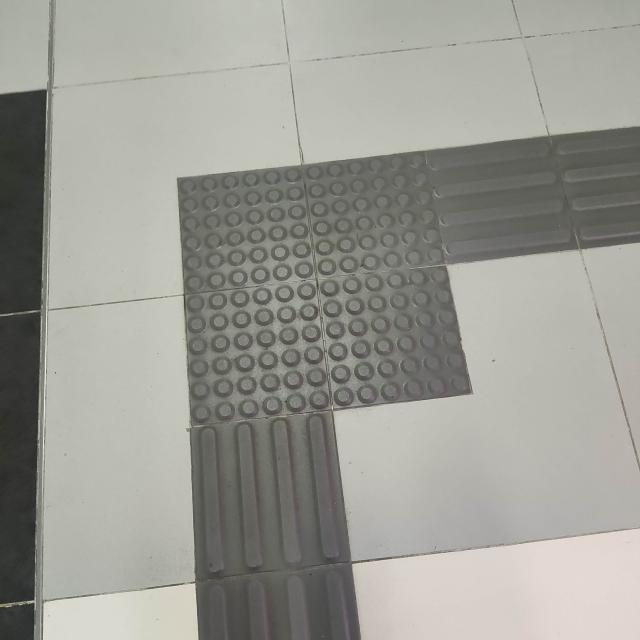kanan: (116, 128, 640, 460)
